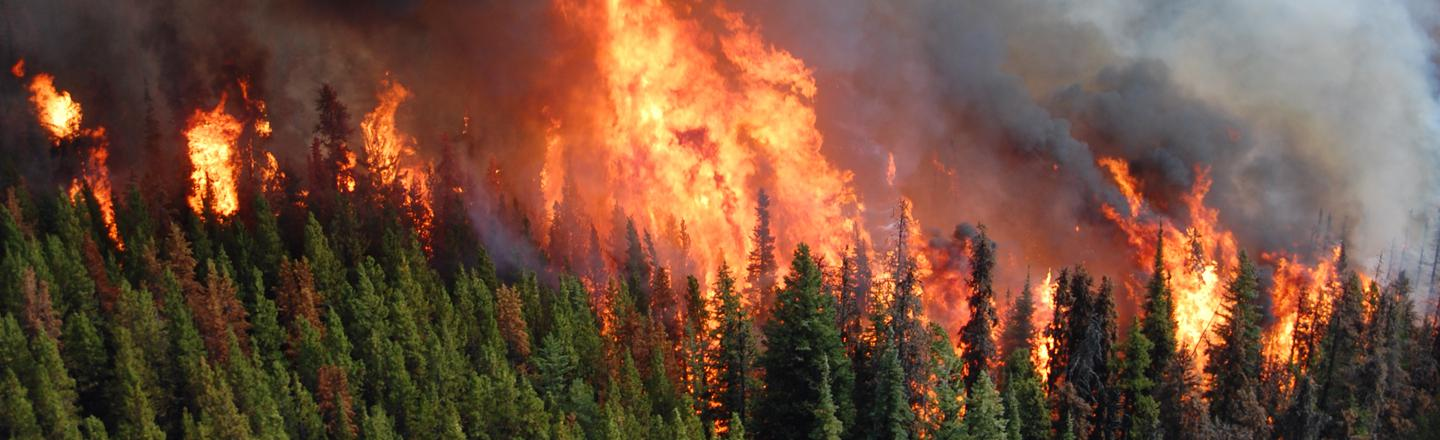fire: (495, 1, 989, 346), (1090, 152, 1258, 367), (14, 49, 128, 237), (169, 65, 302, 226), (333, 61, 448, 245), (1268, 232, 1378, 372), (1016, 265, 1070, 384)
